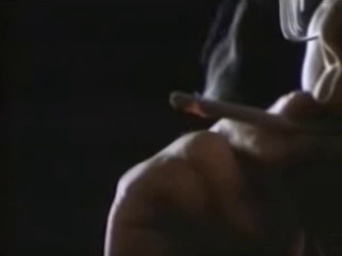smoke: (171, 90, 298, 133)
